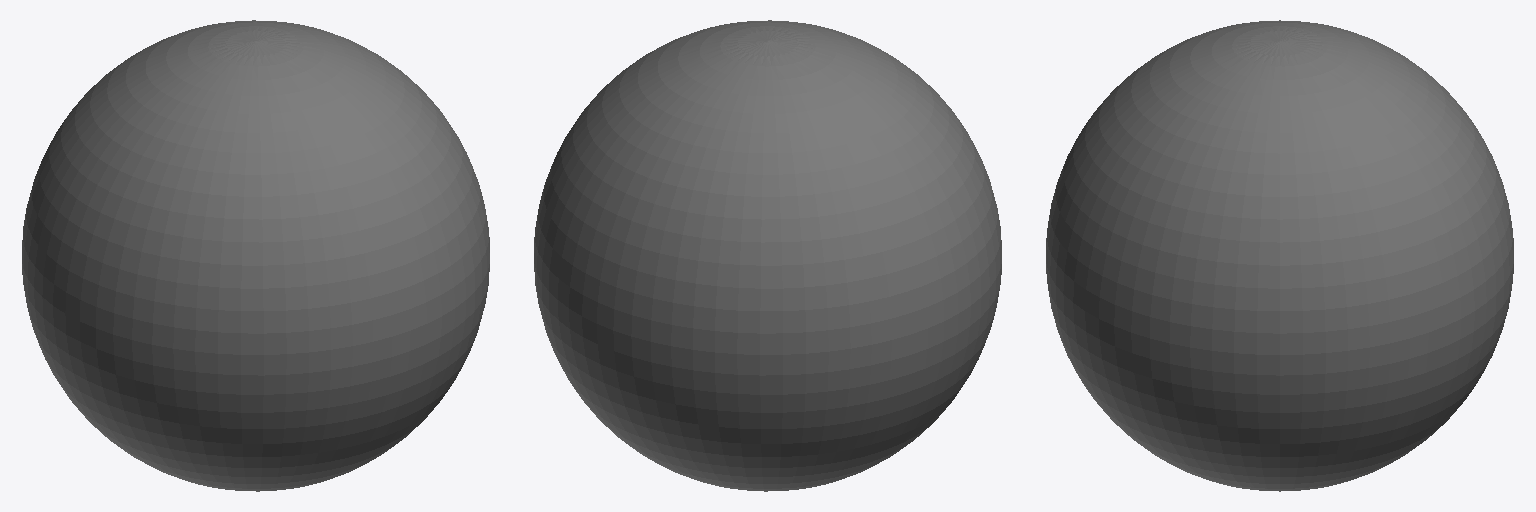
robot.urdf — ball_bounce_x_0-0:
<?xml version="1.0"?>
<robot name="ball_bounce_x_0-0">
  <link name="base">
    <visual>
      <geometry>
        <mesh filename="ball_bounce_x_0-0.obj" scale="1 1 1"/>
      </geometry>
      <material name="gray">
        <color rgba="0.5 0.5 0.5 1.0"/>
      </material>
    </visual>
    <collision>
      <geometry>
        <mesh filename="ball_bounce_x_0-0.obj" scale="1 1 1"/>
      </geometry>
    </collision>
    <inertial>
      <mass value="1.000"/>
      <inertia
          ixx="0.017517" ixy="0.000000" ixz="0.000000"
          iyy="0.017517" iyz="0.000000"
          izz="0.017334"/>
      <origin xyz="0.000000 -0.000602 0.264837" rpy="0 0 0"/>
    </inertial>
  </link>
</robot>

--- Render facts (derived) ---
Views: 3 orthographic renders of the robot side by side, from view 1: azimuth 30°, elevation 25°; view 2: azimuth 150°, elevation 25°; view 3: azimuth 270°, elevation 25°.
Model ball_bounce_x_0-0 with 1 links and 0 joints (none), rooted at base, posed all joints at 0.
Links seen in each view (by area): view 1: base; view 2: base; view 3: base.
Boxes of the visible links, left/top/right/bottom form: base: left=22, top=20, right=489, bottom=491; base: left=534, top=20, right=1001, bottom=491; base: left=1046, top=20, right=1513, bottom=491.
Size in the robot's own frame: 0.3225 by 0.3225 by 0.3259 metres.
1 mesh visuals loaded from 1 distinct referenced files (1 OBJ).
